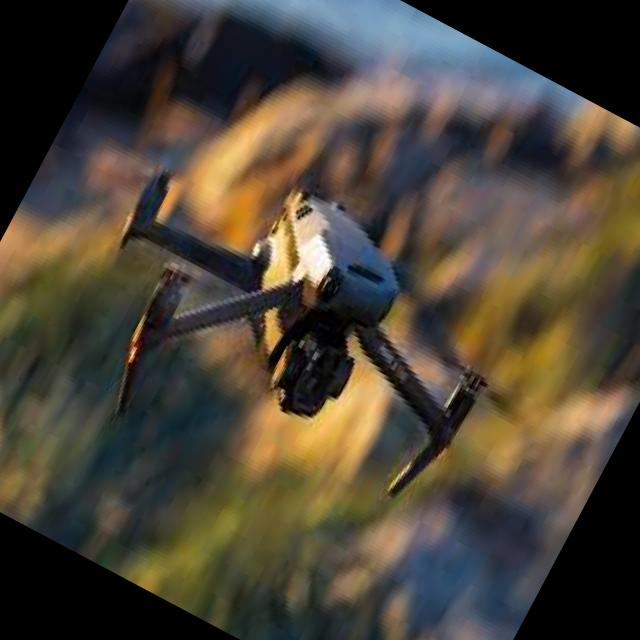drone: (18, 63, 575, 574)
